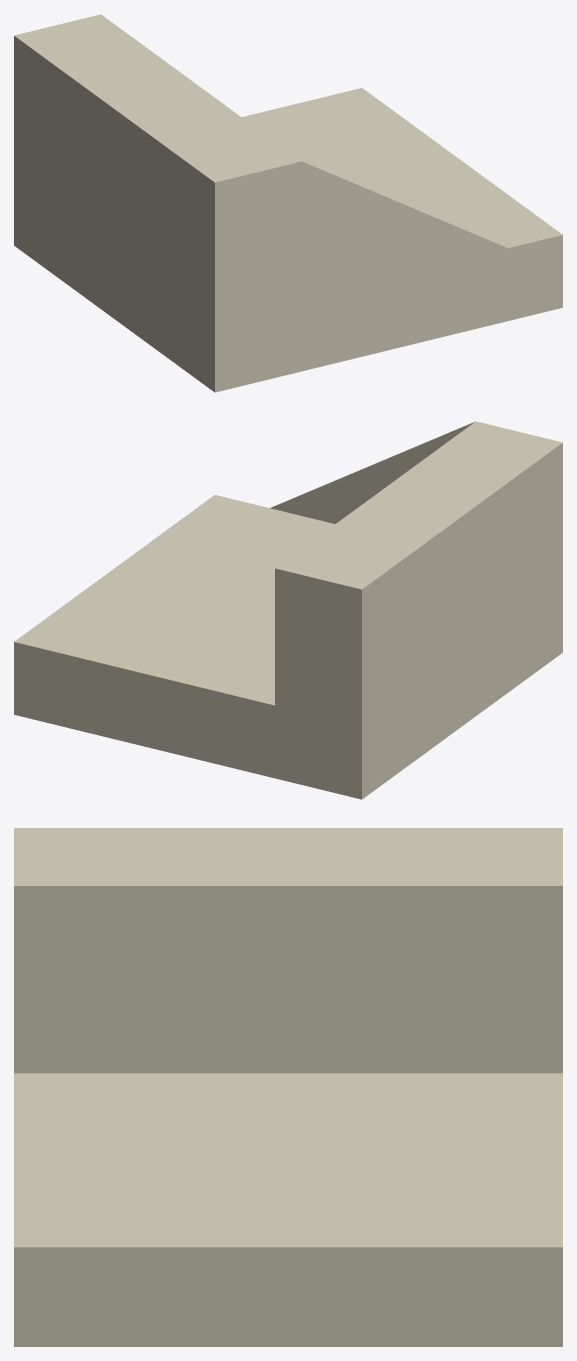
Rendered from roadtile_084.glb.
The picture shows the model from 3 angles, top to bottom: view 1: azimuth 30°, elevation 25°; view 2: azimuth 150°, elevation 25°; view 3: azimuth 270°, elevation 25°; orthographic projection. The views are drawn at different scales.
Parts seen in each view (by area): view 1: Mesh1 Group1 Model; view 2: Mesh1 Group1 Model; view 3: Mesh1 Group1 Model.
Boxes of the visible parts, x1,y1,x2,y2 form: Mesh1 Group1 Model: (14,14,562,392); Mesh1 Group1 Model: (14,421,562,799); Mesh1 Group1 Model: (14,828,562,1346).
Bounding box in the file's own units: 3 × 1.73 × 3.
